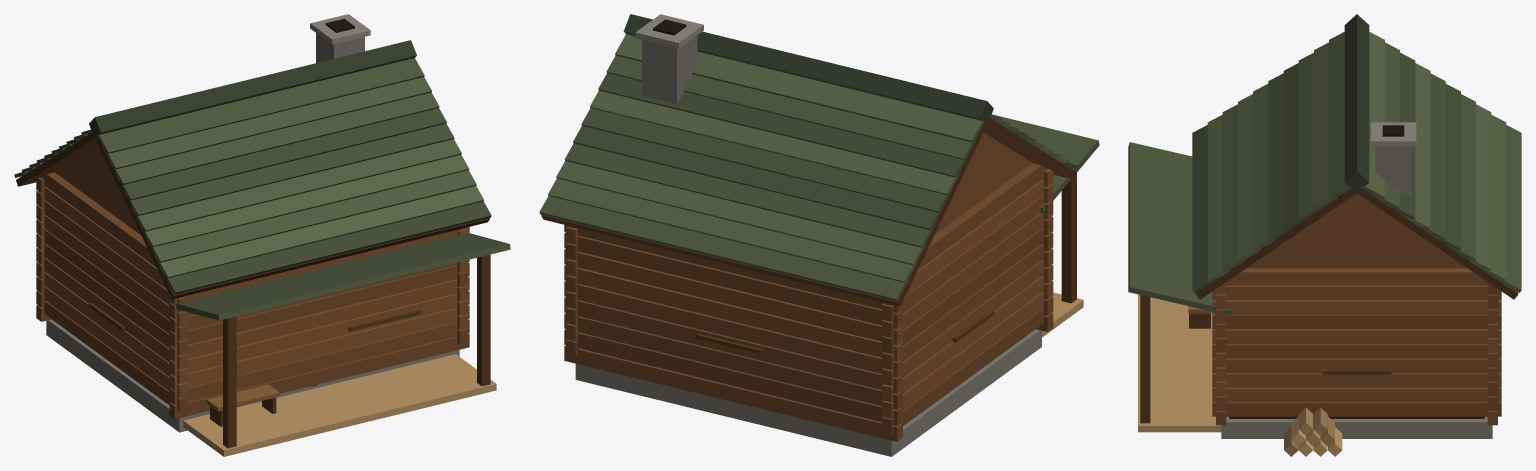
Rendered from casa_vecino_cabana.glb.
3 views of the same model, side by side, from view 1: azimuth 30°, elevation 25°; view 2: azimuth 150°, elevation 25°; view 3: azimuth 270°, elevation 25° (orthographic). The views are drawn at different scales.
Parts seen in each view (by area): view 1: SM_CasaVecino_cabana; view 2: SM_CasaVecino_cabana; view 3: SM_CasaVecino_cabana.
Boxes of the visible parts, x1,y1,x2,y2 form: SM_CasaVecino_cabana: [14, 14, 510, 456]; SM_CasaVecino_cabana: [539, 14, 1099, 456]; SM_CasaVecino_cabana: [1128, 14, 1521, 456].
Bounding box in the file's own units: 5.38 × 4.42 × 5.39.
